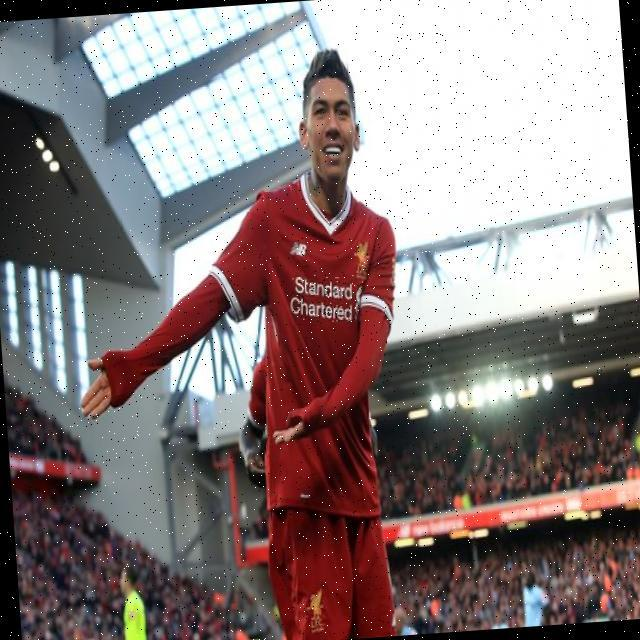Standard Chartered: (289, 270, 366, 325)
